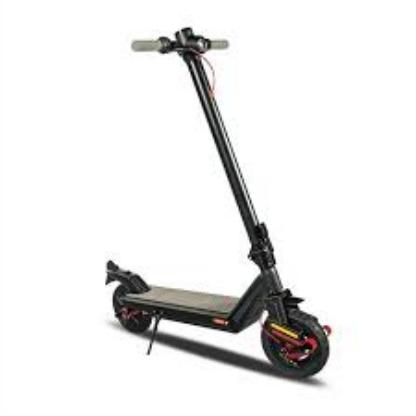bike: (103, 28, 332, 382)
